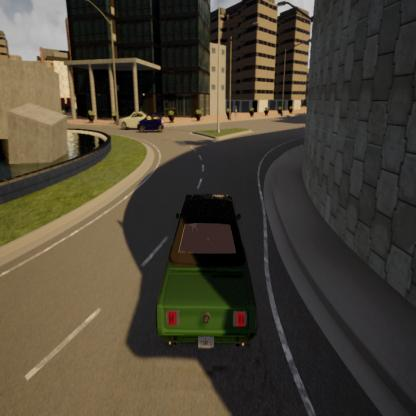Cars: (149, 182, 255, 362), (119, 102, 150, 133), (136, 110, 166, 137)
